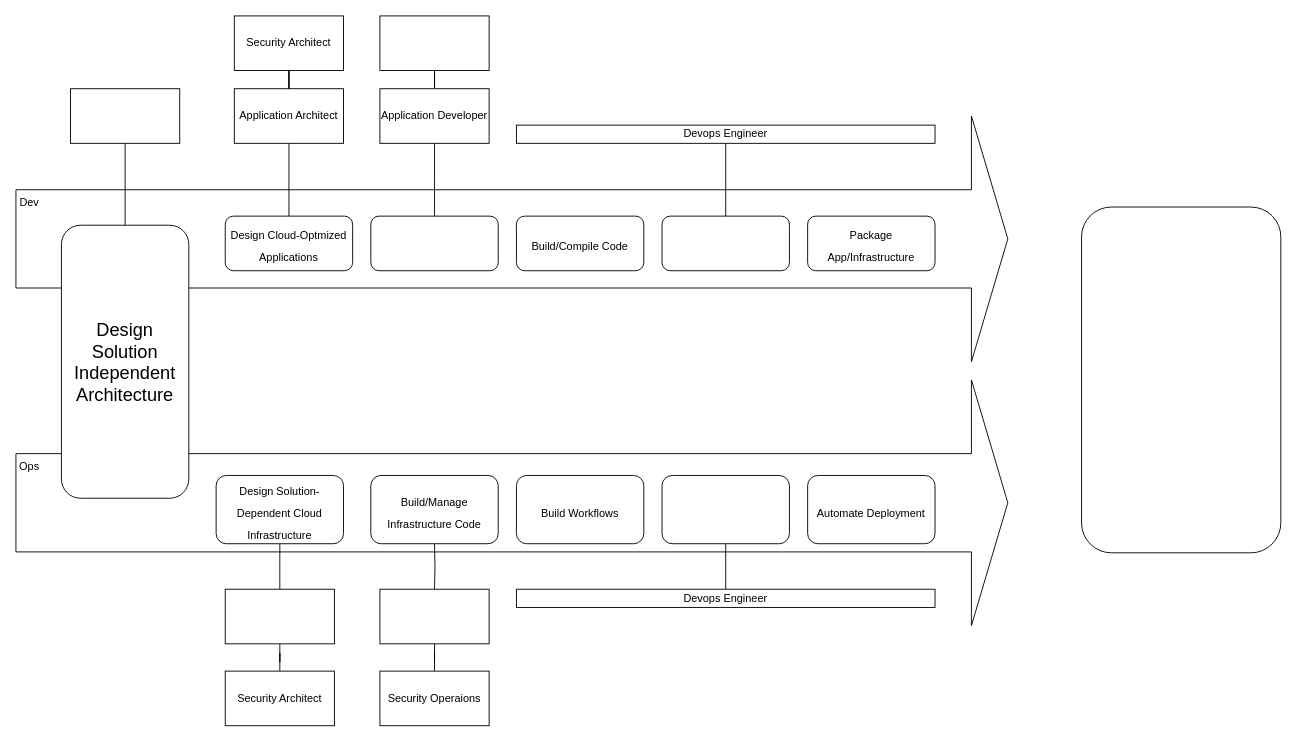
Image size: 1297x742. Some labels were removed from this diagram. Each missing label, with the centre of its shape:
Cloud Enterprise Architect: pixel 125 115
Cloud Infrastructure Architect: pixel 279 616
Cloud Operations Engineer: pixel 434 616
Development, Test, Stage, And Production Enviroments: pixel 1181 379
Security Operations: pixel 434 43
Test Application Code: pixel 725 243
Validate Images: pixel 725 509
Write Application Code: pixel 434 243
